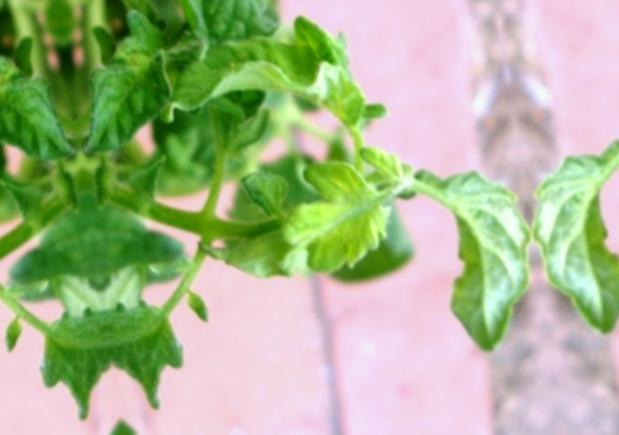Tomato leaf yellow virus: (140, 0, 386, 158), (197, 148, 406, 311), (411, 137, 551, 376), (100, 274, 211, 427), (129, 0, 277, 79)
